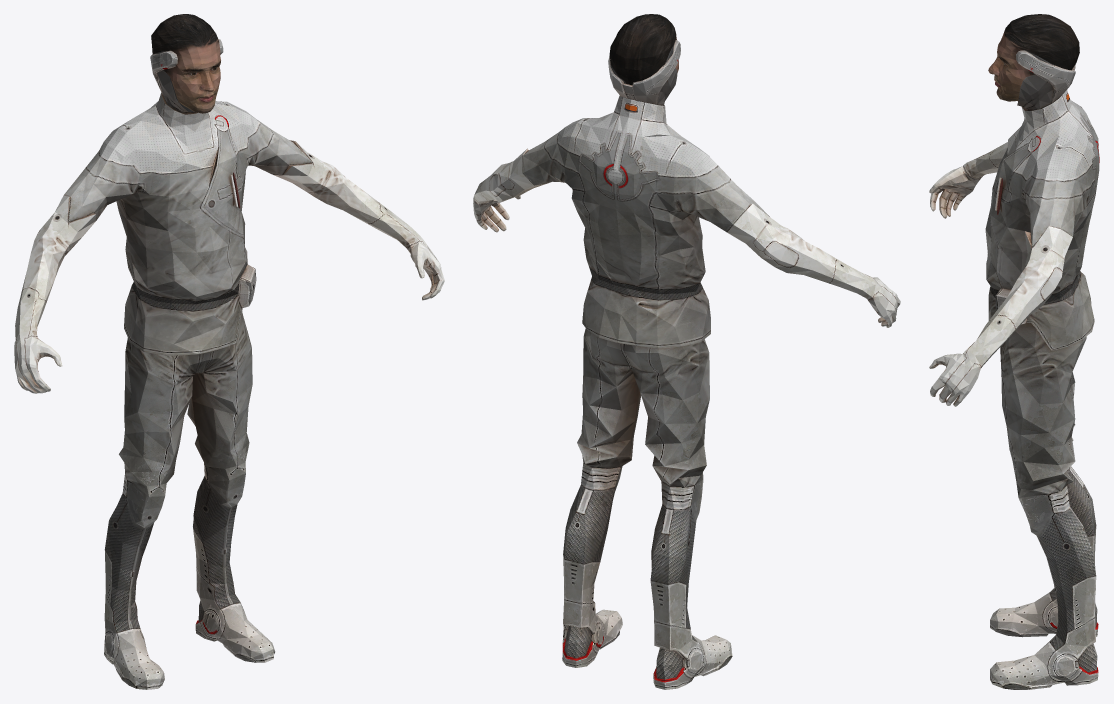
File: scientist.obj
3 views of the same model, side by side, from view 1: azimuth 30°, elevation 25°; view 2: azimuth 150°, elevation 25°; view 3: azimuth 270°, elevation 25° (orthographic).
Parts seen in each view (by area): view 1: 2d29e8a8_obj, 2c85aaa0_obj; view 2: 2d29e8a8_obj, 2c85aaa0_obj; view 3: 2d29e8a8_obj, 2c85aaa0_obj.
Part boxes in pixels (bbox=[...]): 2d29e8a8_obj: bbox=[14, 39, 444, 689]; 2c85aaa0_obj: bbox=[151, 14, 220, 113]; 2d29e8a8_obj: bbox=[473, 40, 900, 689]; 2c85aaa0_obj: bbox=[609, 14, 678, 85]; 2d29e8a8_obj: bbox=[929, 50, 1099, 689]; 2c85aaa0_obj: bbox=[988, 14, 1079, 101].
Size of the model in its own units: 3.72 by 5.39 by 1.3.
Materials: 2 (2 with a texture image).
